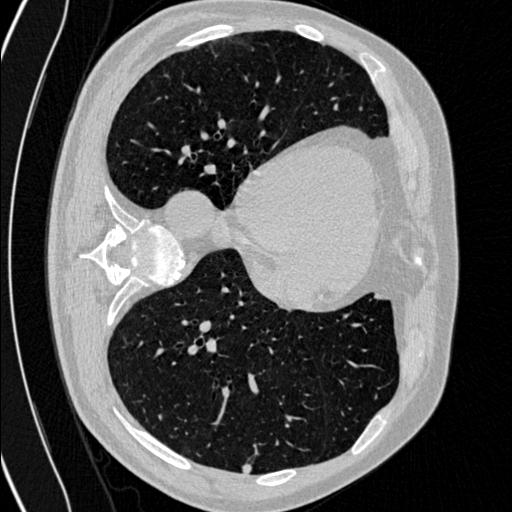nodule: (242, 464, 256, 478)
